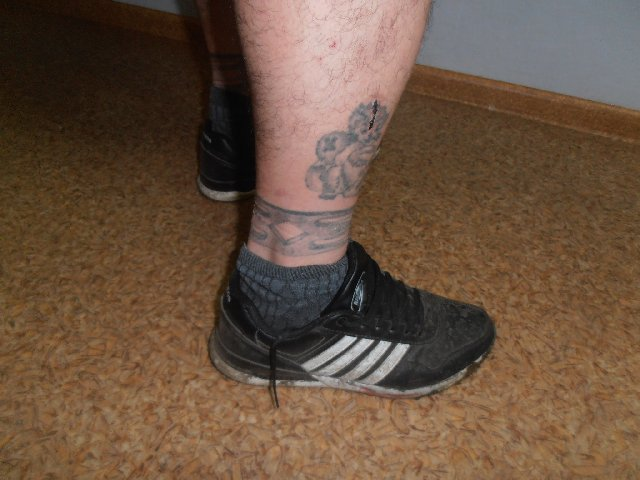tatu8_kot: (304, 99, 390, 206)
